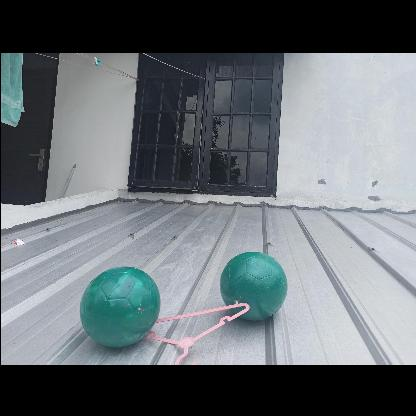green_ball: (77, 262, 161, 346), (221, 249, 290, 318)
